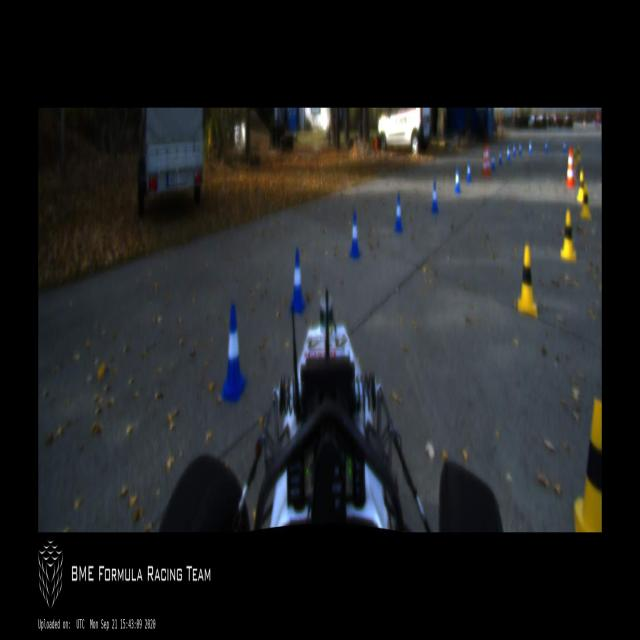blue_cone: (222, 304, 246, 400), (290, 249, 305, 312), (350, 212, 360, 256), (395, 194, 403, 232), (432, 183, 438, 212), (455, 168, 460, 192), (466, 162, 472, 180), (507, 145, 511, 160), (492, 155, 496, 169), (499, 150, 502, 165)
large_orange_cone: (566, 147, 575, 186), (482, 148, 487, 176), (486, 148, 491, 175)
yellow_cone: (574, 401, 602, 530), (518, 247, 537, 316), (561, 212, 576, 259), (581, 185, 590, 217), (576, 172, 584, 200)
